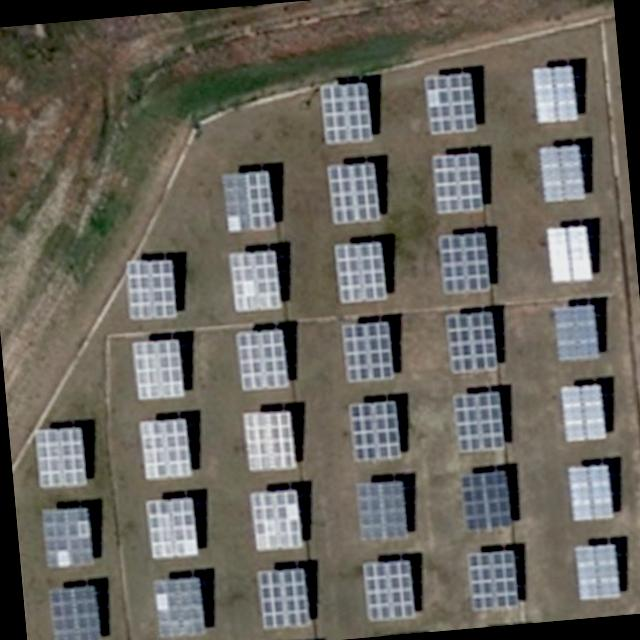solar: (122, 250, 182, 322), (450, 388, 510, 458), (256, 564, 314, 631), (339, 317, 396, 384), (424, 67, 479, 136), (41, 504, 100, 568), (353, 476, 410, 542), (233, 324, 290, 390), (362, 556, 418, 623), (348, 396, 403, 464), (326, 158, 382, 224), (228, 244, 282, 312), (467, 548, 524, 612), (33, 425, 90, 489), (445, 309, 501, 374), (242, 404, 296, 471), (223, 166, 276, 234), (250, 486, 306, 550), (145, 494, 200, 558), (434, 148, 487, 214), (530, 61, 582, 128), (137, 416, 193, 478), (460, 466, 514, 530), (132, 335, 186, 399), (318, 81, 372, 145), (439, 228, 491, 294), (156, 573, 208, 638), (50, 581, 106, 640), (560, 379, 610, 444), (538, 140, 586, 207), (574, 540, 624, 602), (544, 224, 594, 284), (568, 461, 616, 522), (552, 306, 598, 362)
